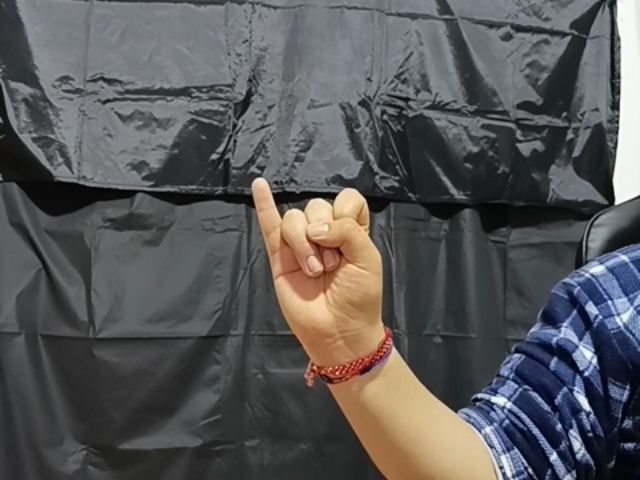I: (248, 175, 400, 341)
